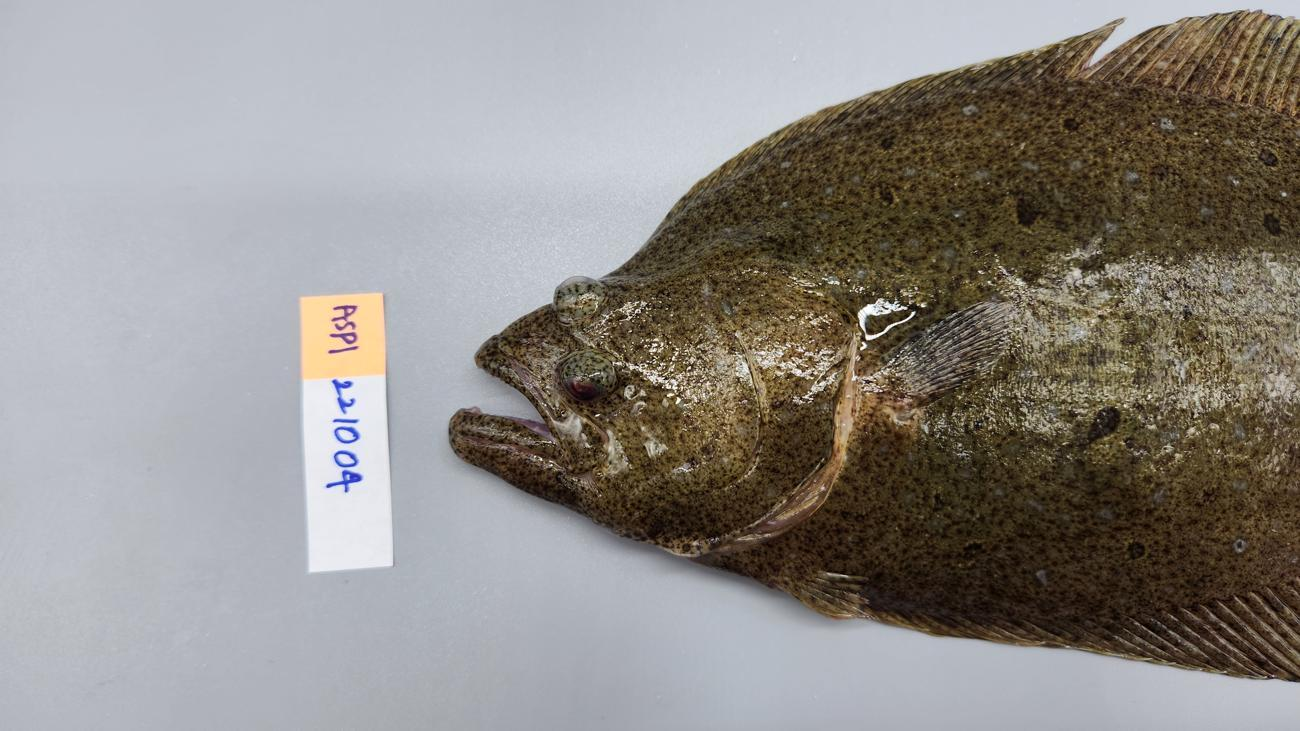SPEYH: (552, 276, 631, 413)
